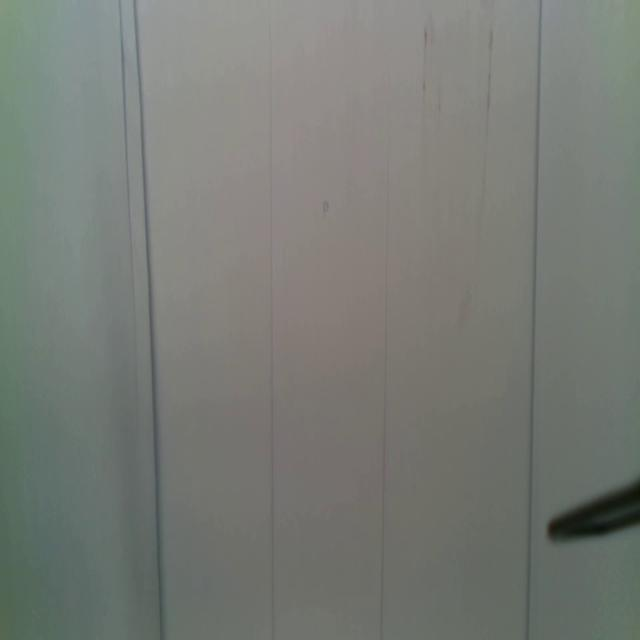crease: (133, 1, 164, 638), (523, 0, 543, 639), (379, 25, 392, 640), (268, 0, 277, 640), (120, 0, 136, 312)
